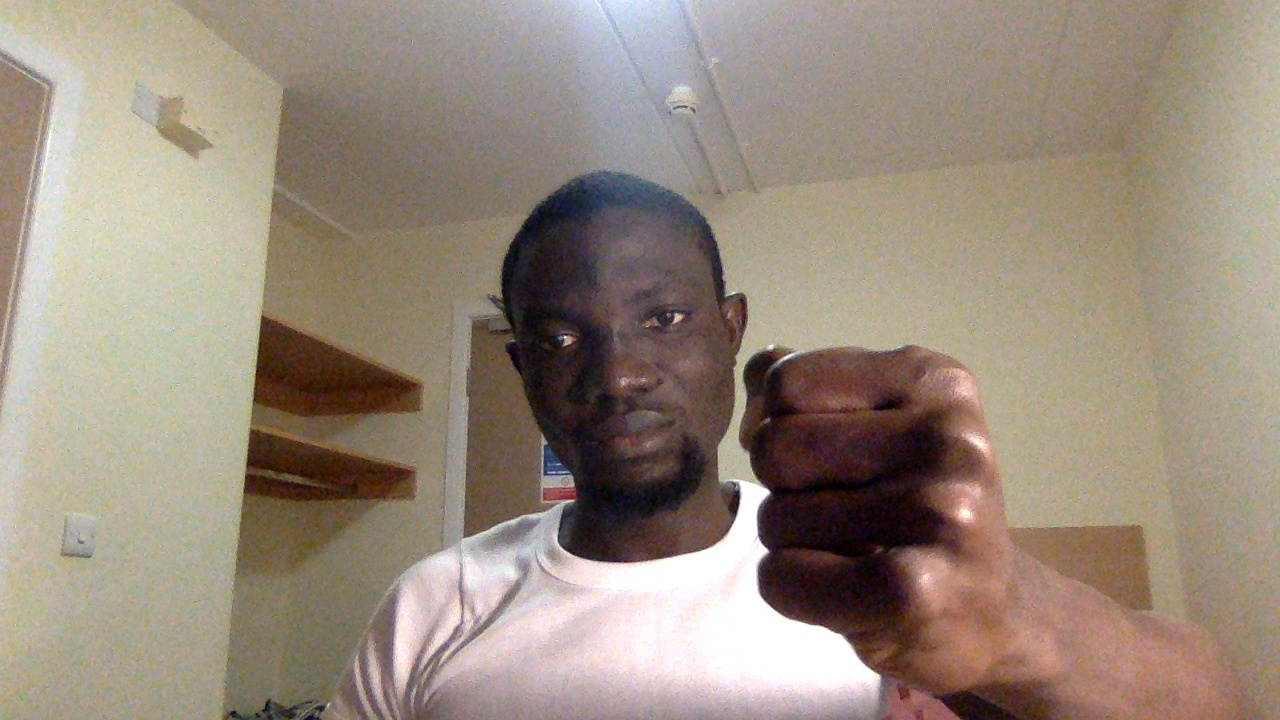Yes: (732, 330, 1037, 703)
